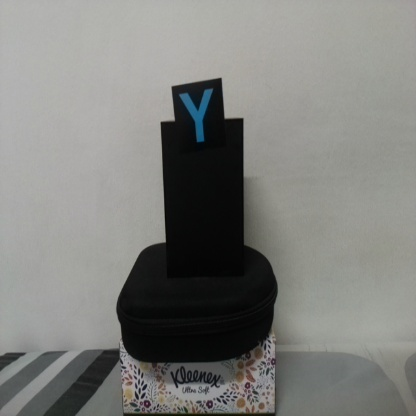id_14: (173, 86, 225, 152)
